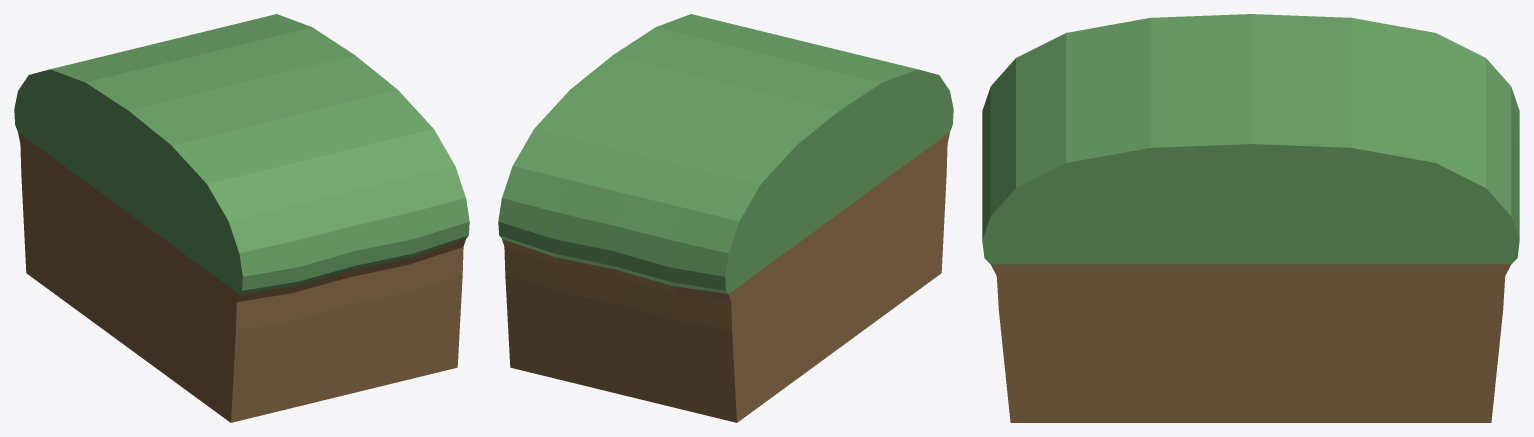
Rendered from platform_topmiddle.glb.
3 renders of one model, left to right at view 1: azimuth 30°, elevation 25°; view 2: azimuth 150°, elevation 25°; view 3: azimuth 270°, elevation 25°, orthographic. The views are drawn at different scales.
Visible parts, largest first — view 1: Platform_TopMiddle; view 2: Platform_TopMiddle; view 3: Platform_TopMiddle.
Part boxes in pixels (box(x1,y1,x2,y2)): Platform_TopMiddle: box(14, 14, 469, 422); Platform_TopMiddle: box(498, 14, 953, 422); Platform_TopMiddle: box(982, 14, 1519, 422).
Bounding box in the file's own units: 2 × 2 × 3.49.
